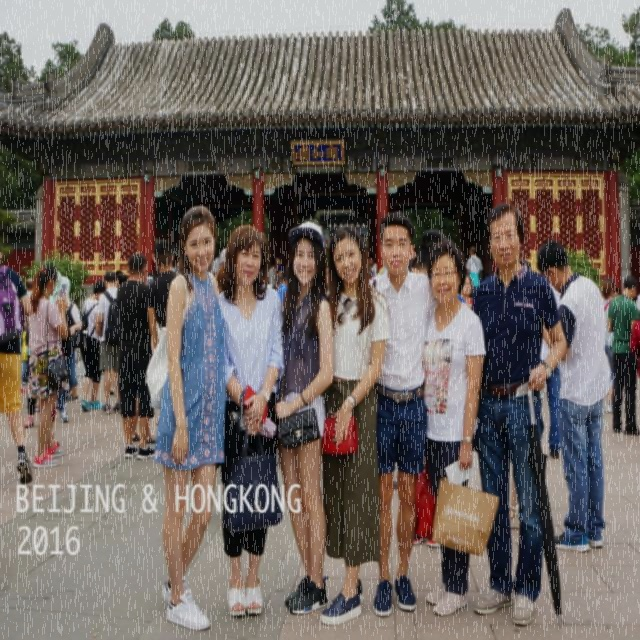pessoa: (464, 198, 568, 630), (144, 205, 226, 634), (366, 210, 440, 618), (319, 223, 392, 628), (270, 220, 338, 618), (219, 224, 286, 618), (420, 235, 488, 618), (539, 240, 611, 555), (114, 252, 160, 462), (26, 261, 69, 470), (0, 239, 35, 486), (34, 267, 71, 449), (606, 275, 640, 437), (530, 296, 563, 459), (77, 278, 108, 413), (96, 270, 122, 414), (146, 240, 180, 350), (57, 276, 82, 422), (599, 281, 615, 414), (410, 228, 450, 280), (130, 394, 162, 446), (504, 460, 526, 535), (21, 278, 34, 385), (464, 246, 484, 298), (22, 396, 43, 429), (63, 372, 81, 405), (21, 330, 28, 394), (461, 274, 474, 304), (322, 266, 332, 303), (276, 276, 288, 306), (272, 255, 284, 279), (210, 250, 222, 274), (268, 257, 277, 285), (368, 253, 378, 278), (410, 254, 422, 274), (218, 246, 228, 270), (603, 276, 616, 290), (172, 254, 180, 276), (635, 288, 640, 318), (117, 274, 128, 286), (378, 258, 385, 276), (610, 287, 620, 299), (266, 282, 278, 291), (207, 260, 214, 275), (25, 342, 31, 359), (114, 269, 124, 279), (146, 272, 156, 281), (114, 376, 120, 391), (68, 296, 76, 306), (142, 272, 148, 284), (52, 402, 61, 410), (486, 270, 494, 278), (412, 250, 418, 260), (171, 262, 177, 272), (274, 261, 278, 270)
